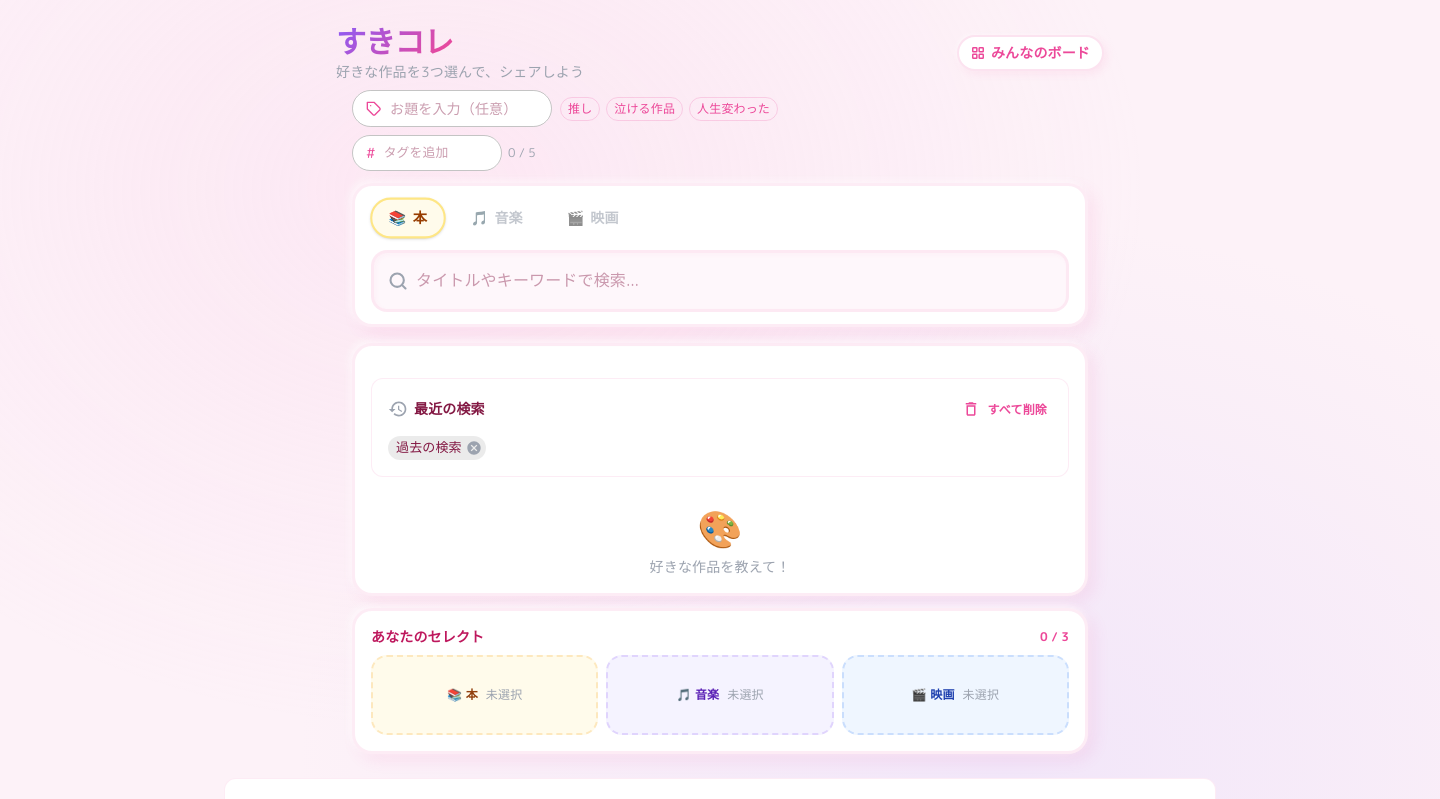
it: SearchPage - search history integration › hides search history when search bar has text
Expected: the text "過去の検索" is shown, [396, 438, 462, 456]
Step 1. Type "test" into the field with placeholder "タイトルやキーワードで検索..." → [741, 280], box [416, 252, 1066, 308]
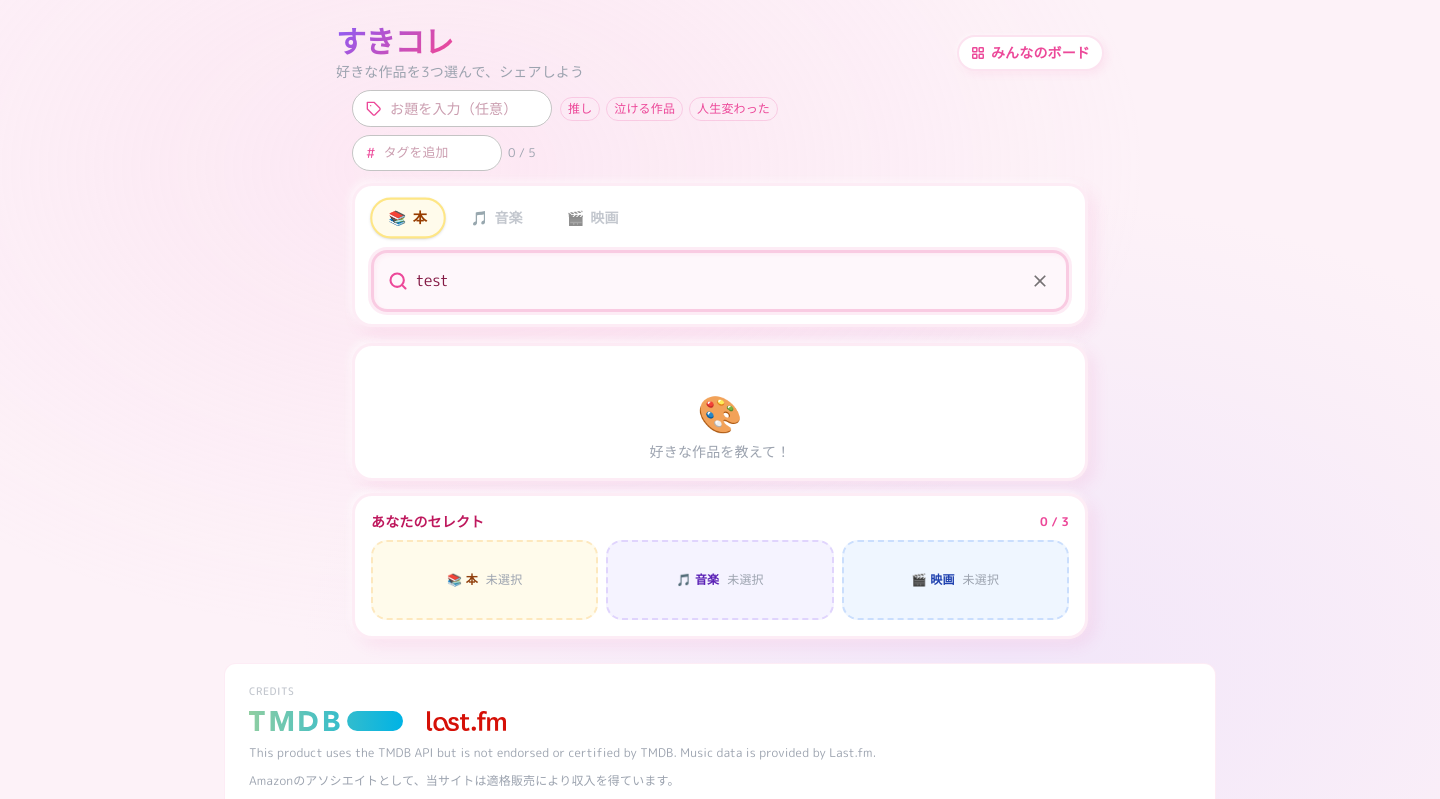
Expected: the button "過去の検索" is gone
